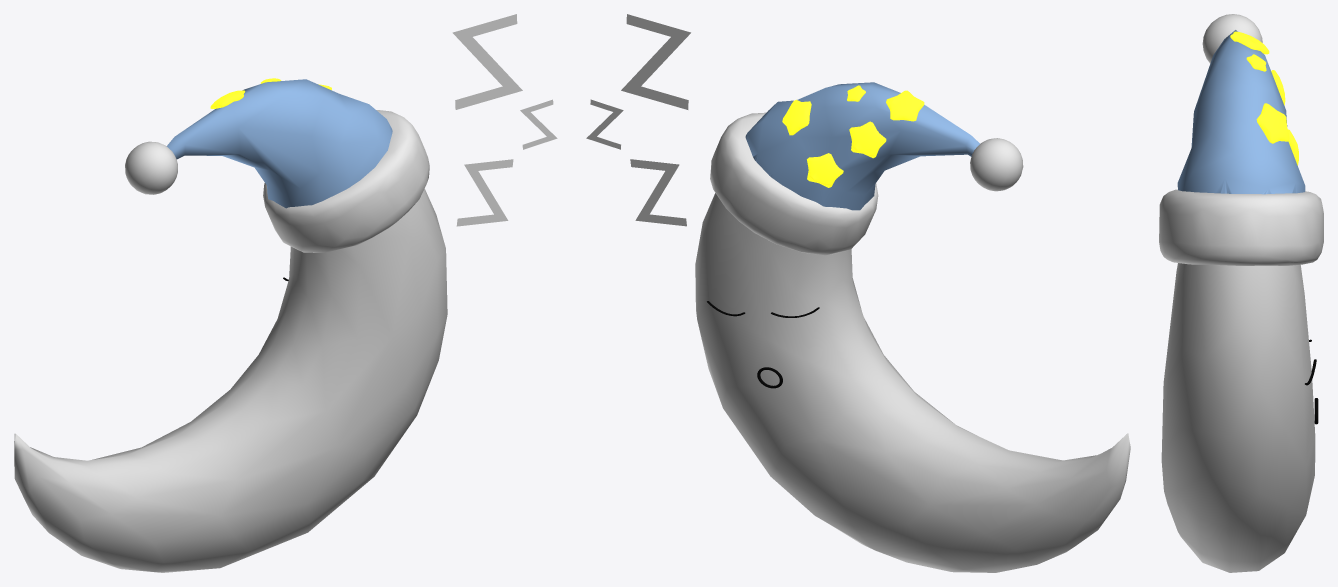
File: moon.glb
The picture shows the model from 3 angles, left to right: view 1: azimuth 30°, elevation 25°; view 2: azimuth 150°, elevation 25°; view 3: azimuth 270°, elevation 25°; orthographic projection. The views are drawn at different scales.
Parts seen in each view (by area): view 1: Moon, Circle.001, Circle, Roundcube.001, Text.002, Text; view 2: Moon, Circle.001, Circle, Roundcube.001, Text.002, Text, Star.002, Star, Star.004, Star.005; view 3: Moon, Circle.001, Circle, Roundcube.001, Star.005, Star.004.
Boxes of the visible parts, bbox=[...] form: Moon: bbox=[14, 188, 447, 572]; Circle.001: bbox=[166, 79, 392, 208]; Circle: bbox=[263, 110, 429, 252]; Roundcube.001: bbox=[125, 141, 177, 194]; Text.002: bbox=[452, 14, 522, 109]; Text: bbox=[456, 159, 513, 226]; Moon: bbox=[695, 193, 1130, 572]; Circle.001: bbox=[745, 82, 979, 210]; Circle: bbox=[710, 112, 878, 255]; Roundcube.001: bbox=[970, 138, 1023, 191]; Text.002: bbox=[621, 14, 690, 109]; Text: bbox=[630, 159, 686, 226]; Star.002: bbox=[849, 121, 886, 158]; Star: bbox=[807, 153, 843, 187]; Star.004: bbox=[886, 90, 924, 121]; Star.005: bbox=[782, 99, 811, 135]; Moon: bbox=[1161, 263, 1315, 572]; Circle.001: bbox=[1177, 30, 1305, 194]; Circle: bbox=[1159, 189, 1323, 265]; Roundcube.001: bbox=[1202, 14, 1262, 63]; Star.005: bbox=[1256, 103, 1289, 143]; Star.004: bbox=[1230, 31, 1269, 54].
Size of the model in its own units: 4.81 by 4.01 by 1.12.
